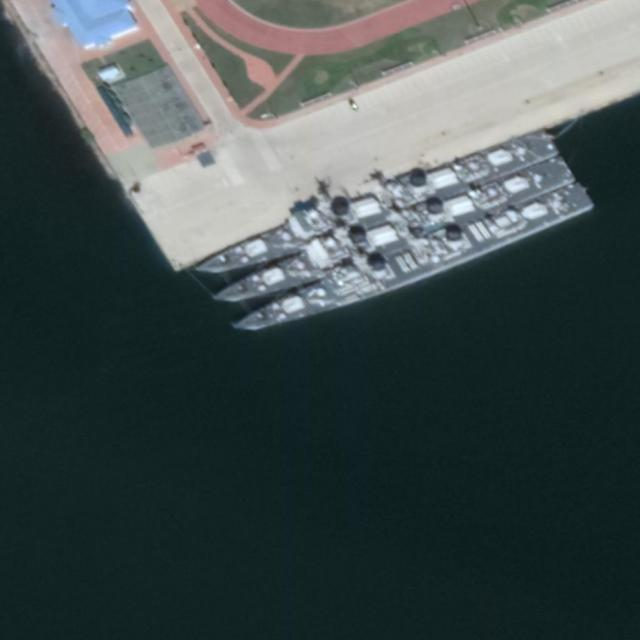Destroyer: (228, 178, 594, 347), (210, 151, 573, 318), (194, 125, 559, 288)
